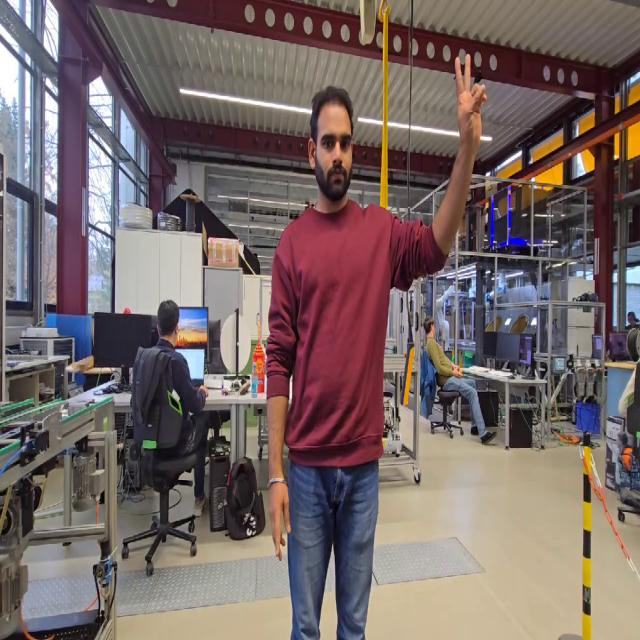v_sign: (451, 50, 489, 156)
